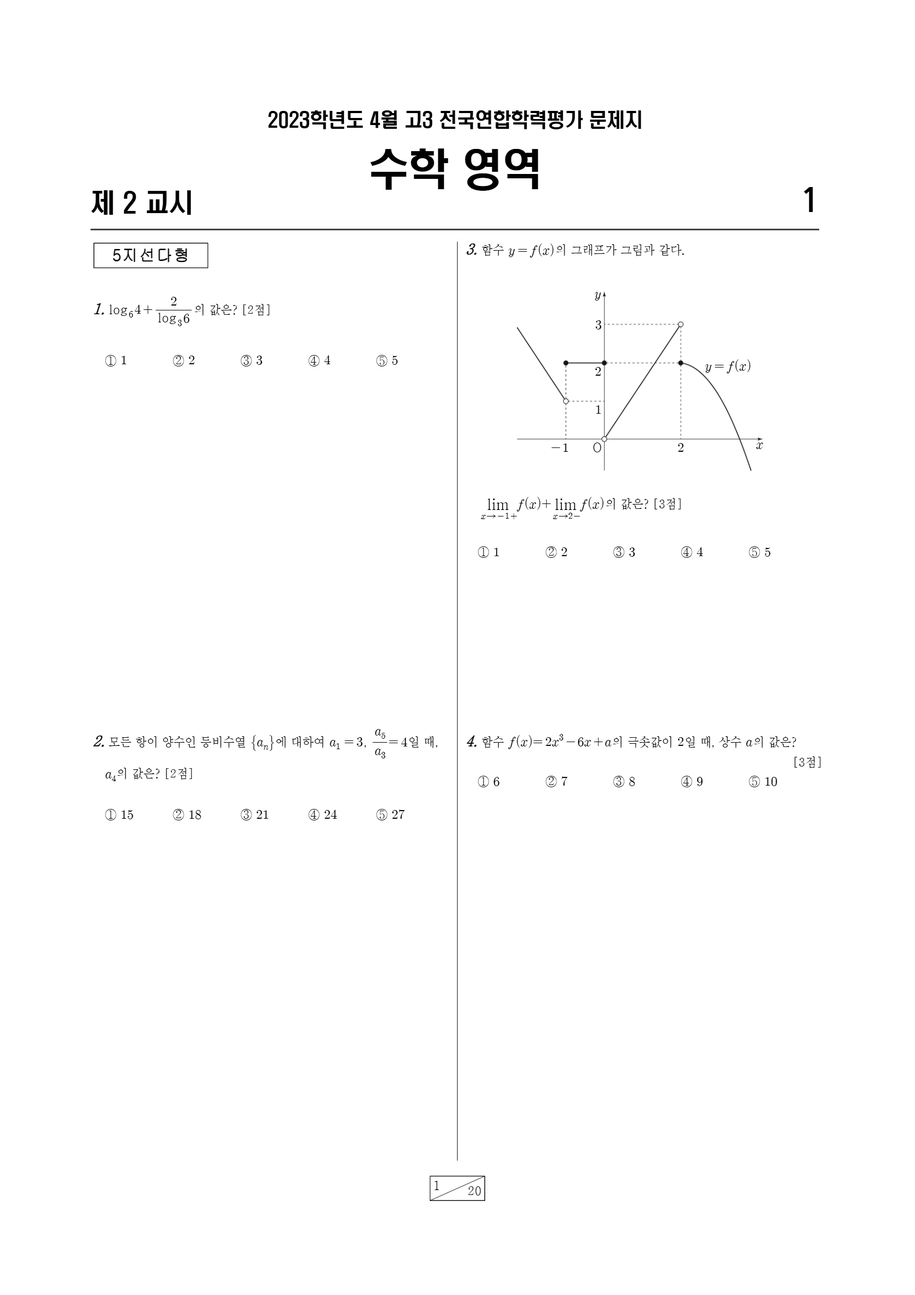opt_1: (103, 353, 117, 367), (105, 808, 116, 821), (477, 545, 488, 558), (478, 775, 489, 788)
opt_2: (172, 808, 184, 821), (545, 545, 557, 558), (545, 775, 557, 788), (172, 354, 184, 366)
opt_3: (240, 353, 252, 367), (240, 808, 252, 821), (613, 775, 624, 788), (613, 546, 624, 558)
opt_4: (307, 354, 320, 367), (680, 545, 692, 558), (680, 775, 692, 787), (308, 808, 319, 821)
opt_5: (375, 354, 388, 367), (375, 808, 387, 821), (748, 545, 760, 558), (748, 775, 760, 788)
